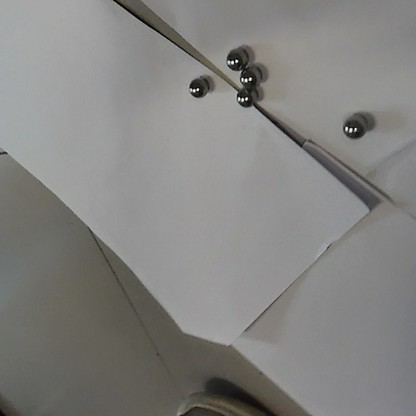ironball: (342, 119, 361, 140), (235, 88, 254, 107), (240, 67, 257, 85), (188, 78, 205, 96), (226, 48, 240, 69)
